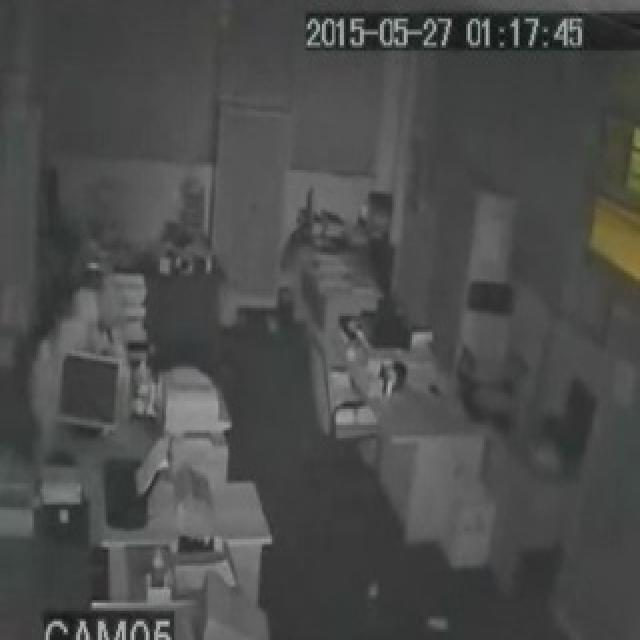thief: (62, 266, 140, 393)
